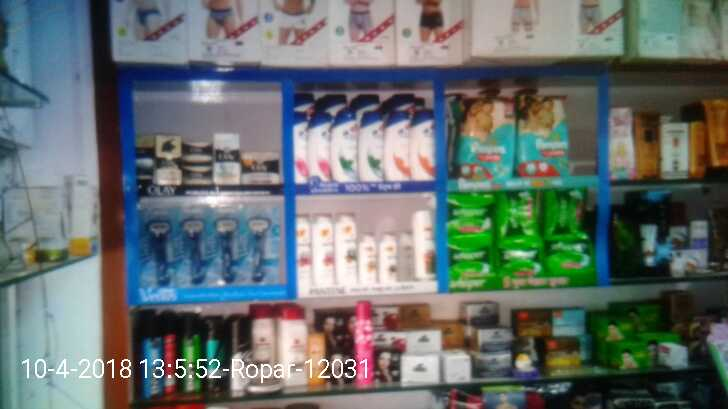venus: (139, 208, 176, 286), (176, 207, 212, 286), (212, 207, 245, 285), (245, 207, 278, 285)
